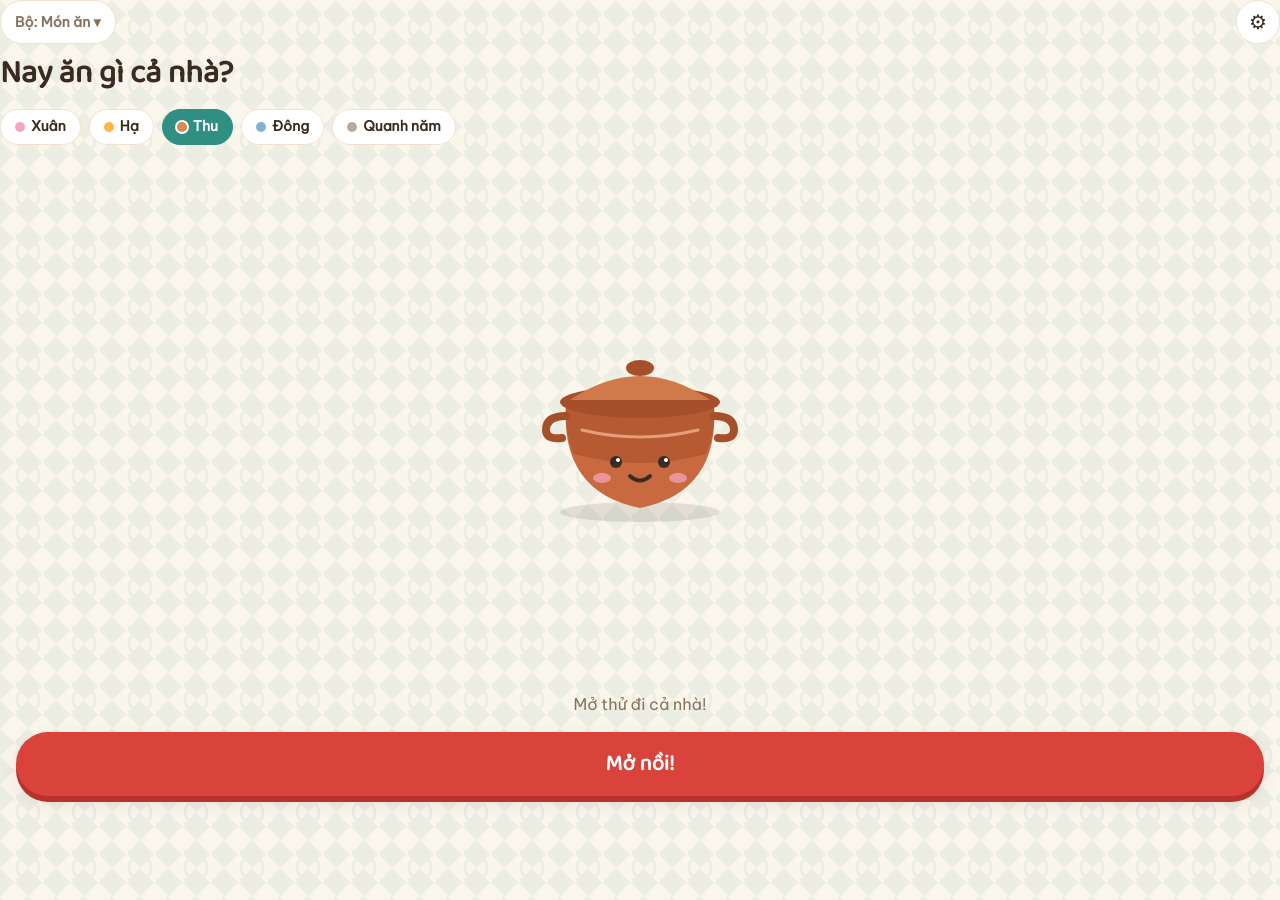
Scenario: SpinScreen › nhóm hết món: riêng ô đó báo hết + "Đổi mùa" đóng mâm và focus chip mùa
The width and height of the screenshot is (1280, 900).
Click the button "Mở nồi!": (640, 764) [16,732,1264,796]
Wait 7710 ms
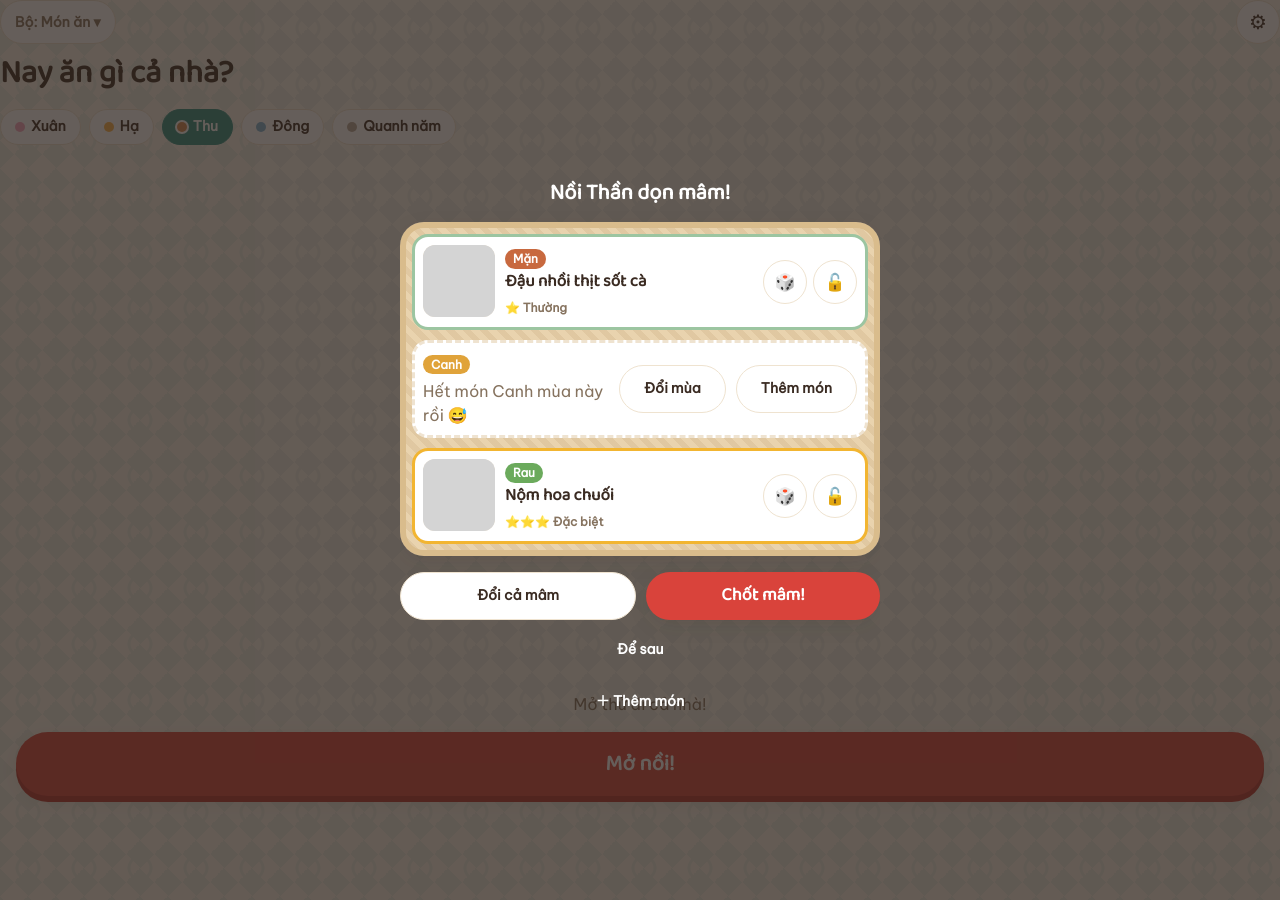
Now the text "Hết món Canh mùa này rồi 😅" is shown, box [423,378,609,426]
Now the number of list items is 3, box [412,234,868,330]; [412,340,868,438]; [412,448,868,544]
Click the button "Đổi mùa": (672, 388) [619,364,726,412]
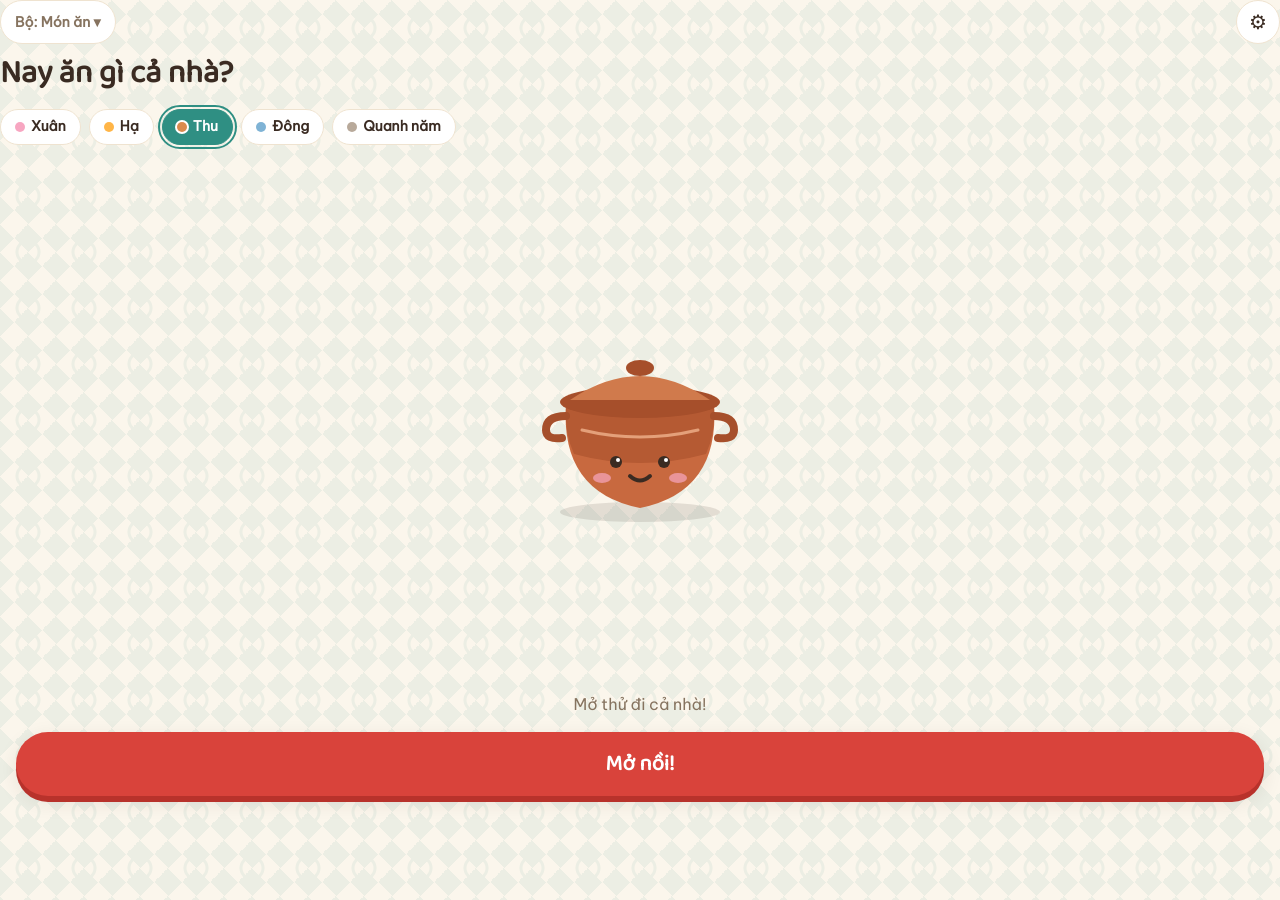
Now the dialog is gone
